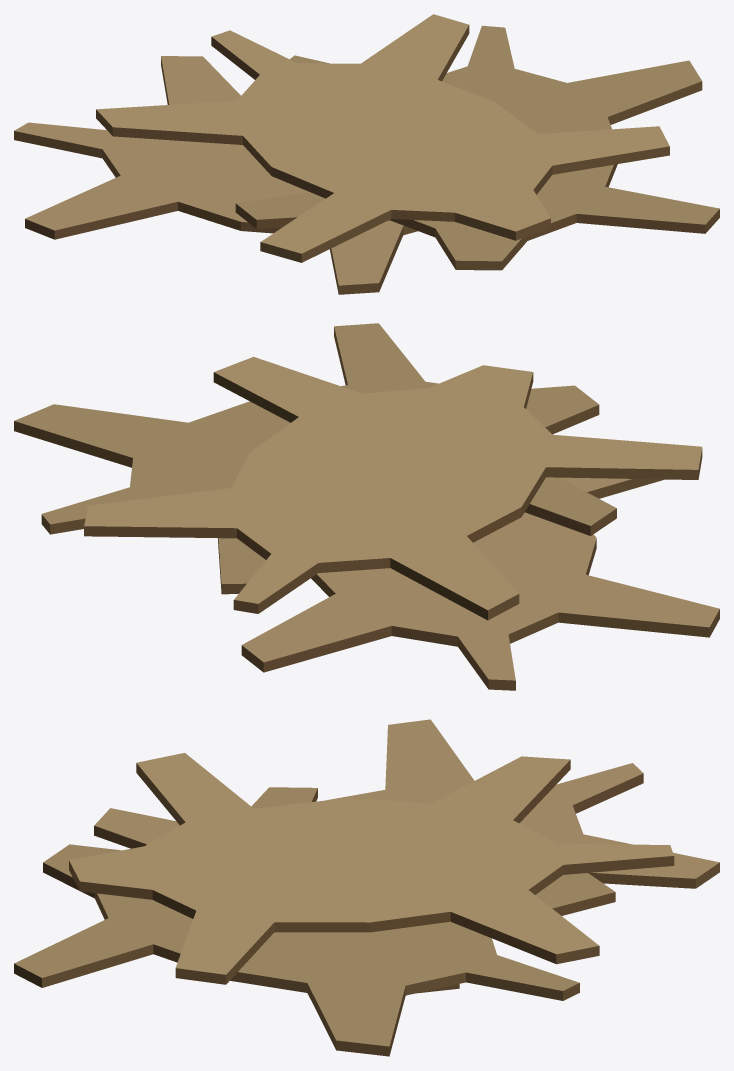
Rendered from storage_dried_hide.glb.
3 renders of one model, top to bottom at view 1: azimuth 30°, elevation 25°; view 2: azimuth 150°, elevation 25°; view 3: azimuth 270°, elevation 25°, orthographic. The views are drawn at different scales.
Visible parts, largest first — view 1: storage_dried_hide; view 2: storage_dried_hide; view 3: storage_dried_hide.
Part boxes in pixels (x1,y1,x2,y2): storage_dried_hide: [14, 14, 719, 294]; storage_dried_hide: [14, 323, 719, 690]; storage_dried_hide: [14, 719, 719, 1056].
Bounding box in the file's own units: 1.84 × 0.105 × 1.6.
